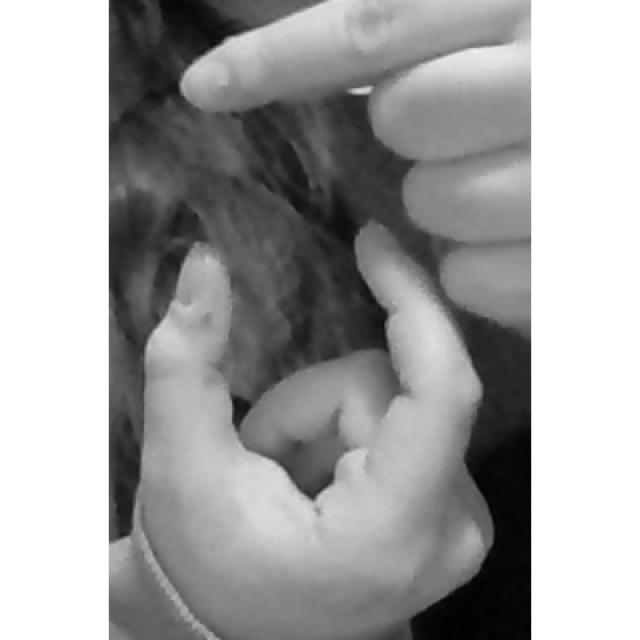U--: (135, 0, 531, 640)
